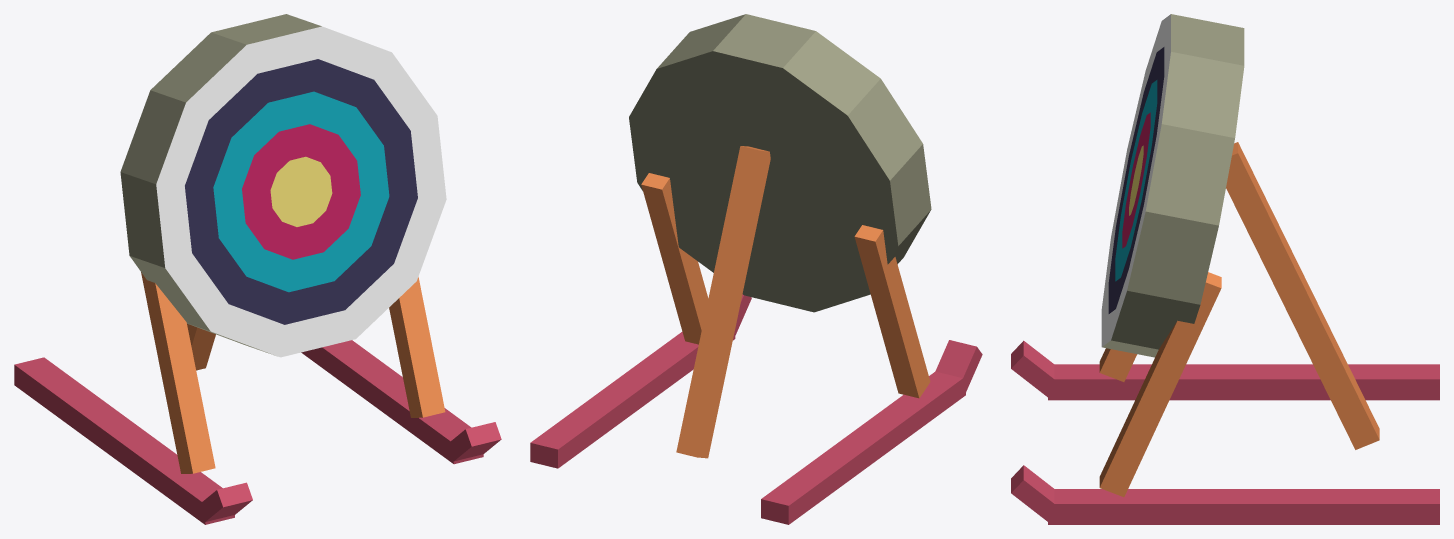
Rendered from target.glb.
3 views of the same model, side by side, from view 1: azimuth 30°, elevation 25°; view 2: azimuth 150°, elevation 25°; view 3: azimuth 270°, elevation 25° (orthographic). The views are drawn at different scales.
Visible parts, largest first — view 1: Boss, RunnerL, LegL, RunnerR, LegR, TipL, TipR, BackLeg; view 2: Boss, BackLeg, RunnerL, RunnerR, LegL, LegR, TipL; view 3: Boss, RunnerR, RunnerL, BackLeg, LegR, TipR, TipL, LegL.
Boxes of the visible parts, x1,y1,x2,y2 form: Boss: (120,14,446,357); RunnerL: (14,357,234,524); LegL: (141,272,215,473); RunnerR: (301,340,483,464); LegR: (389,277,445,417); TipL: (202,482,252,522); TipR: (451,422,501,461); BackLeg: (187,323,215,370); Boss: (629,14,931,312); BackLeg: (676,146,770,458); RunnerL: (761,371,965,524); RunnerR: (530,330,735,468); LegL: (854,225,930,398); LegR: (641,173,708,344); TipL: (935,340,982,394); Boss: (1101,14,1244,357); RunnerR: (1048,489,1439,524); RunnerL: (1048,364,1439,400); BackLeg: (1226,142,1379,449); LegR: (1099,272,1221,497); TipR: (1011,465,1062,523); TipL: (1011,340,1061,397); LegL: (1099,348,1136,381).
Bounding box in the file's own units: 1.2 × 1.68 × 1.54.
